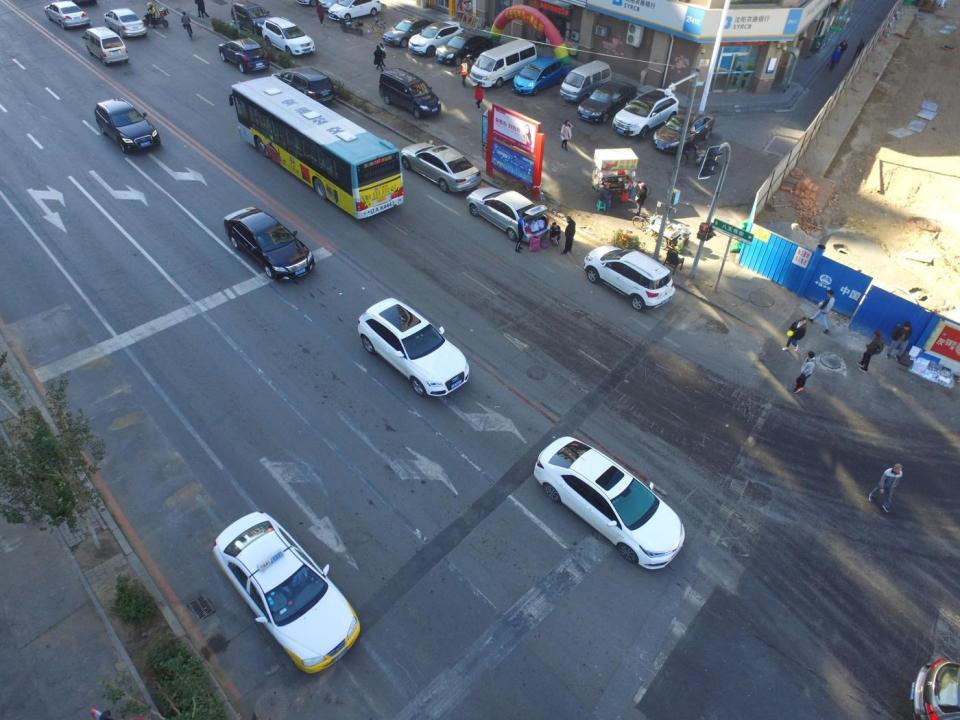bus: (228, 72, 406, 222)
car: (211, 510, 360, 674), (534, 430, 686, 571), (356, 296, 468, 397), (222, 206, 317, 282), (582, 243, 678, 310), (466, 182, 558, 242), (400, 131, 483, 193), (94, 96, 162, 152), (612, 85, 681, 138), (647, 105, 715, 152), (274, 63, 336, 106), (257, 13, 316, 58), (576, 78, 636, 121), (211, 36, 272, 73), (512, 54, 563, 97), (412, 20, 464, 55), (436, 34, 492, 65), (381, 16, 435, 48), (41, 1, 91, 35), (101, 9, 151, 40), (327, 0, 386, 23)
van: (467, 38, 542, 88), (380, 66, 440, 120), (561, 60, 612, 105), (83, 28, 130, 68), (228, 0, 272, 32)
